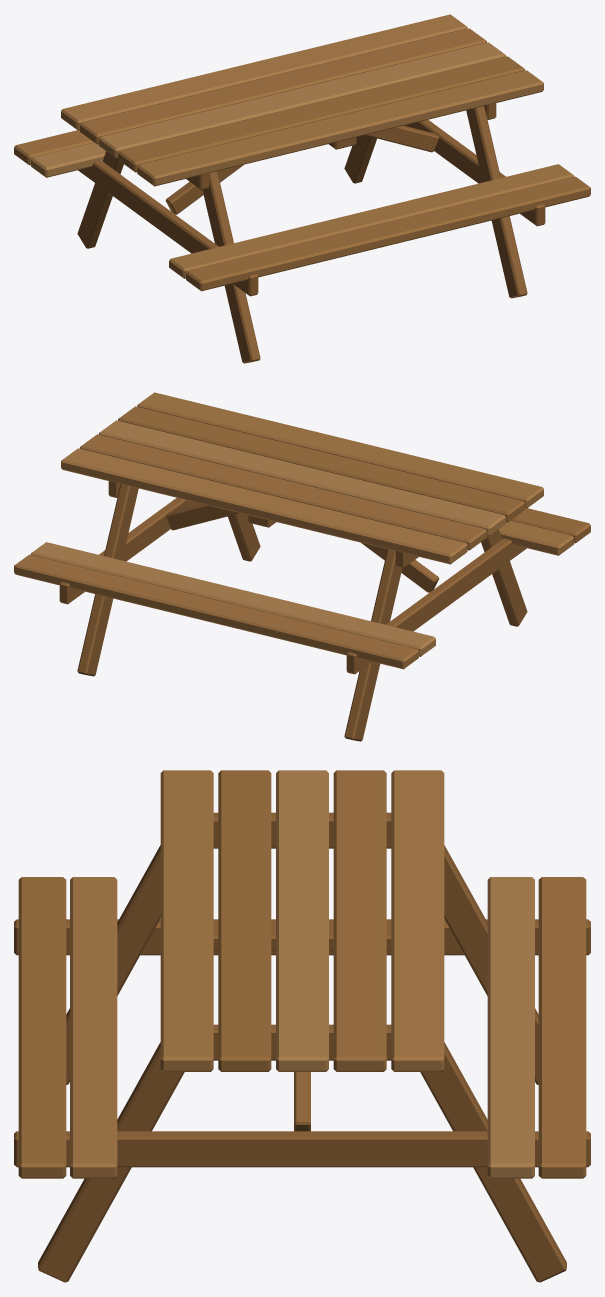
File: picnic_table.glb
3 renders of one model, top to bottom at view 1: azimuth 30°, elevation 25°; view 2: azimuth 150°, elevation 25°; view 3: azimuth 270°, elevation 25°, orthographic. The views are drawn at different scales.
Parts seen in each view (by area): view 1: picnic_table; view 2: picnic_table; view 3: picnic_table.
Part boxes in pixels (bbox=[...]): picnic_table: bbox=[14, 14, 590, 363]; picnic_table: bbox=[14, 392, 590, 741]; picnic_table: bbox=[14, 770, 590, 1282].
Size of the model in its own units: 1.8 by 0.7796 by 1.52.
